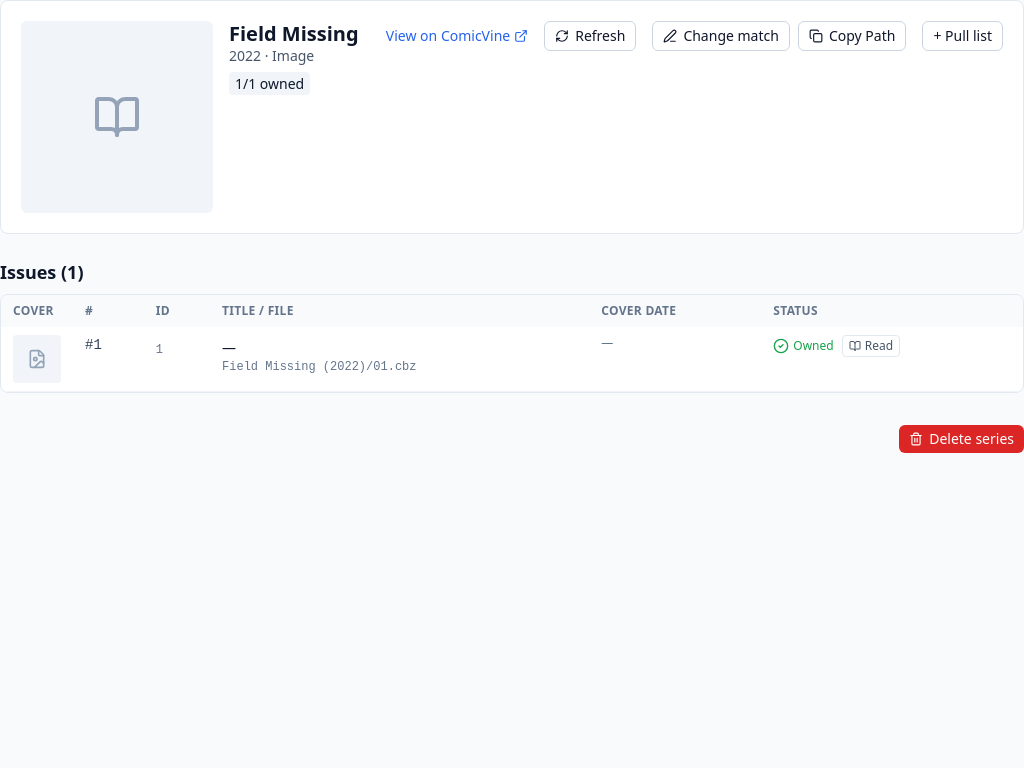
Test: series detail page › falls back to the issues-array count when owned_file_count is missing from the response
Click the button "Delete series" at (962, 439), box [899,425,1023,453]
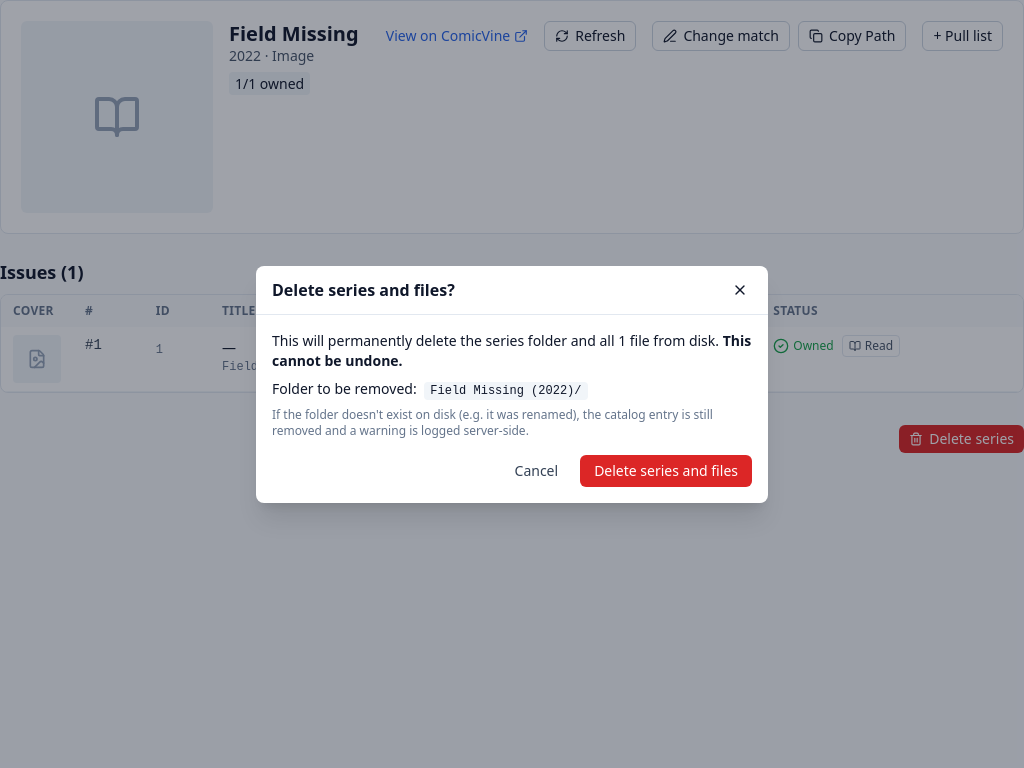
expect the text "Folder to be removed: Field Missing (2022)/" is shown: met, box [272,378,588,400]
expect the text "1 file from disk" is shown: met, box [272,330,723,350]
